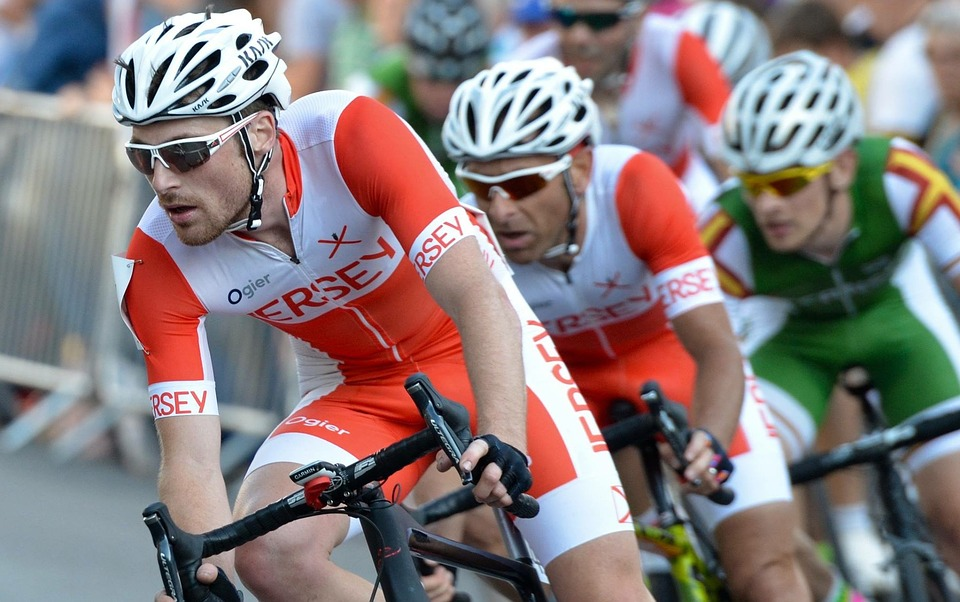with_helmet: (98, 9, 297, 134), (444, 56, 608, 165)
